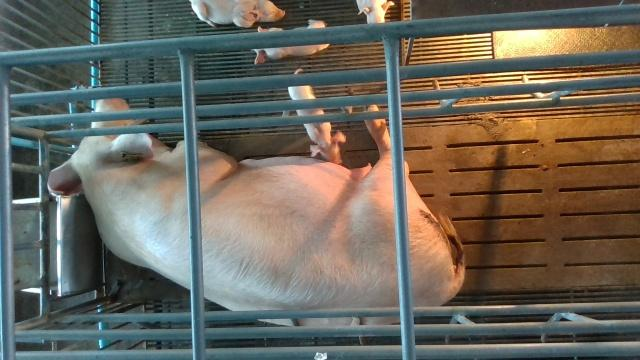piglet: (289, 69, 345, 165), (250, 19, 331, 64), (190, 0, 286, 28), (355, 0, 395, 23)
sow-sit: (48, 98, 466, 326)
